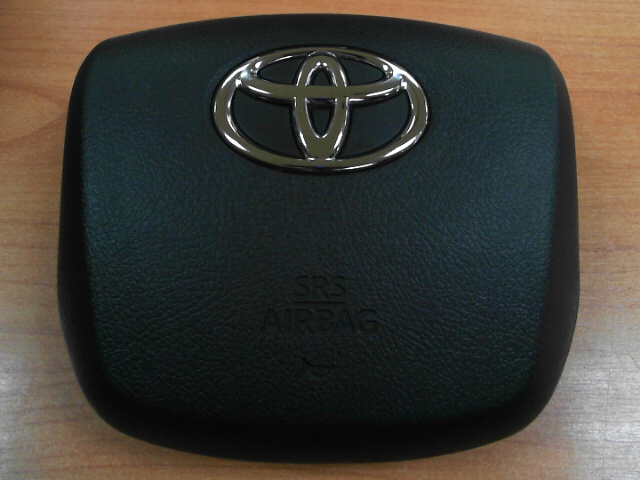AirbagV2: (59, 12, 575, 457)
